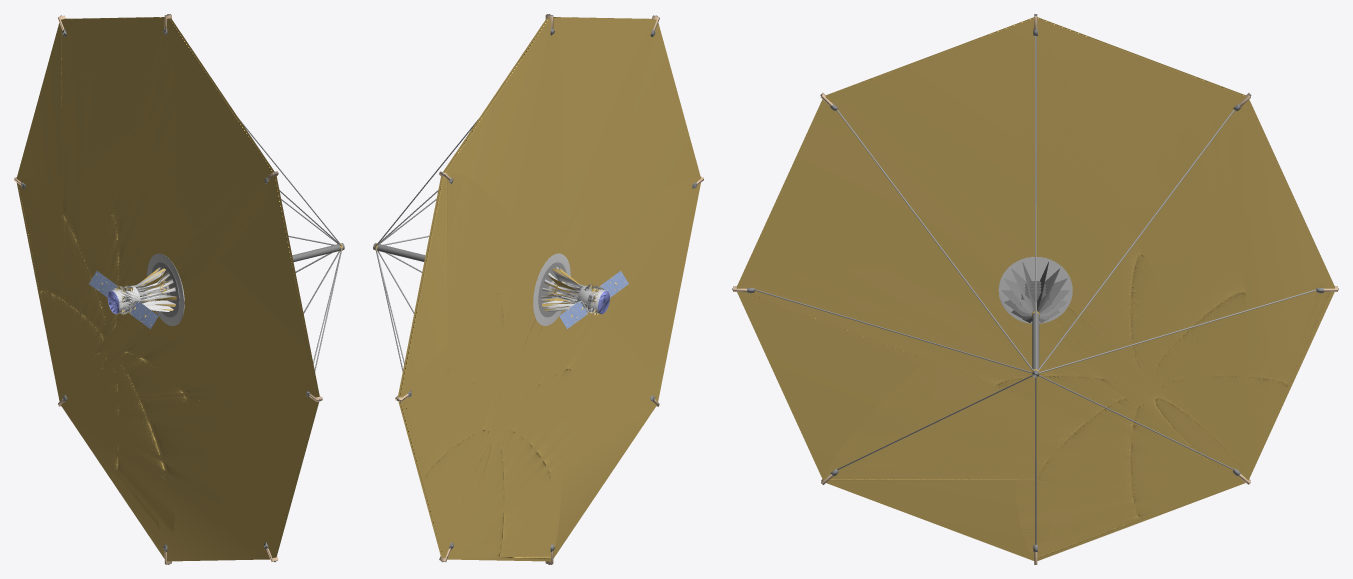
The model's file is Solar Sail Concept.glb.
3 renders of one model, left to right at view 1: azimuth 30°, elevation 25°; view 2: azimuth 150°, elevation 25°; view 3: azimuth 270°, elevation 25°, orthographic.
Parts seen in each view (by area): view 1: Fake; view 2: Fake; view 3: Fake.
Part boxes in pixels (x1,y1,x2,y2): Fake: (14,14,344,564); Fake: (373,14,703,564); Fake: (732,14,1338,564).
Size of the model in its own units: 5.05 by 11.58 by 11.58.
